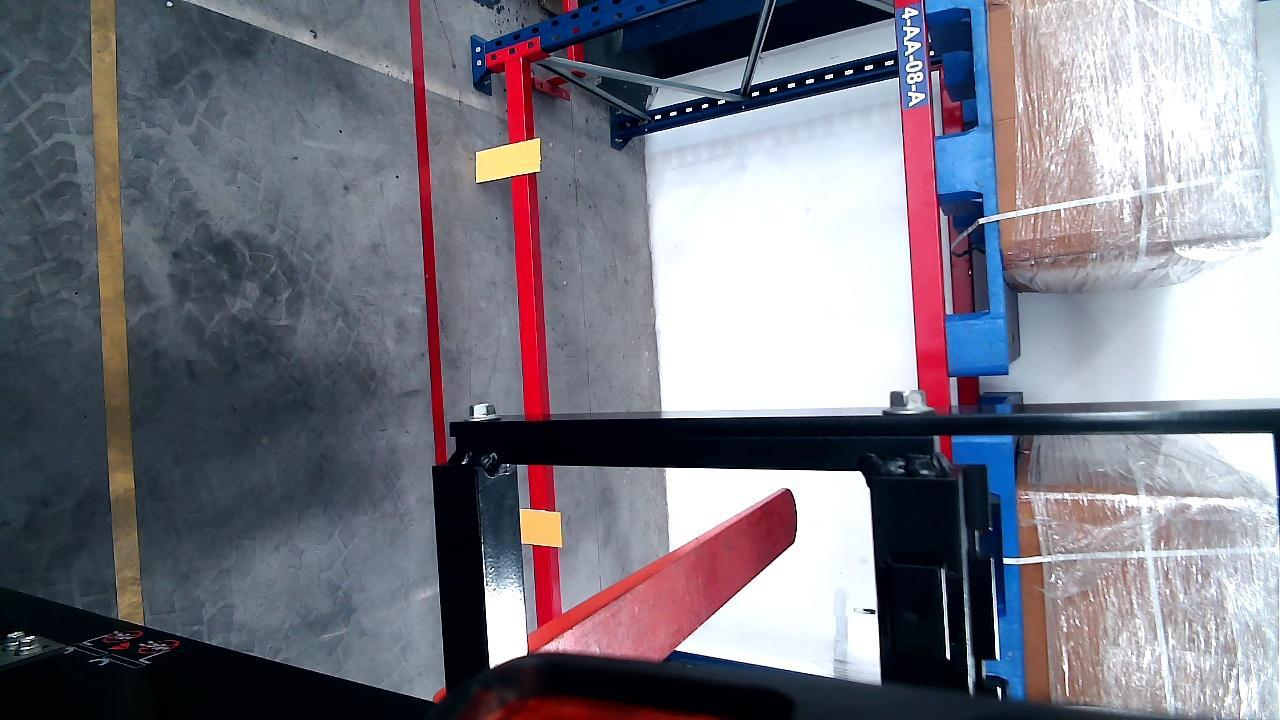red_line: (412, 0, 446, 453)
yellow_line: (88, 0, 145, 627)
